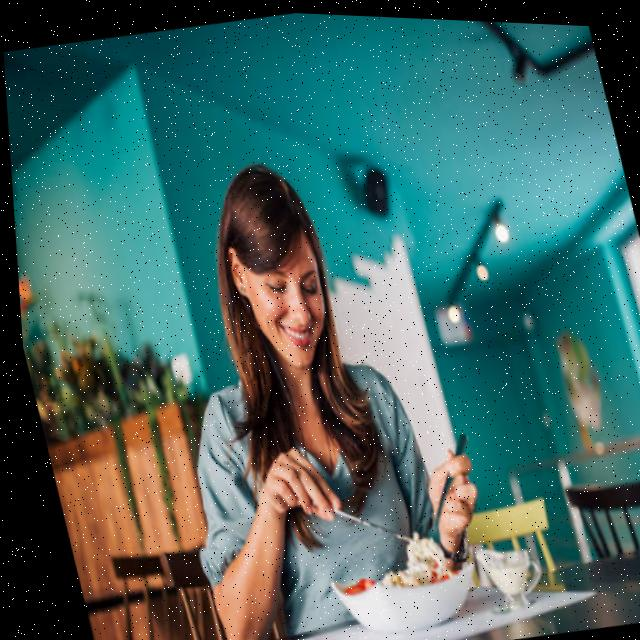eating-person: (98, 107, 555, 640)
